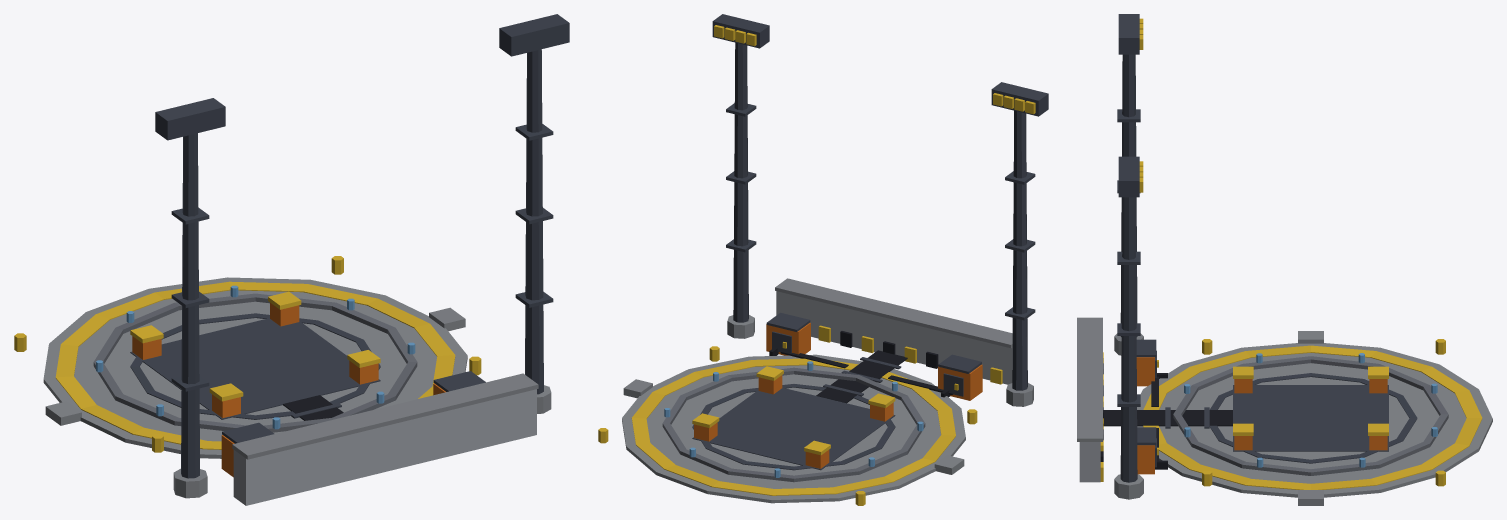
File: Decor_LaunchPad_Platform.fbx
3 views of the same model, side by side, from view 1: azimuth 30°, elevation 25°; view 2: azimuth 150°, elevation 25°; view 3: azimuth 270°, elevation 25° (orthographic). The views are drawn at different scales.
Parts seen in each view (by area): view 1: Platform_Body; view 2: Platform_Body; view 3: Platform_Body.
Part boxes in pixels (left/top/right/bottom): Platform_Body: left=14, top=14, right=569, bottom=505; Platform_Body: left=598, top=14, right=1048, bottom=505; Platform_Body: left=1077, top=14, right=1492, bottom=505.
Bounding box in the file's own units: 30.4 × 27.4 × 31.8.
